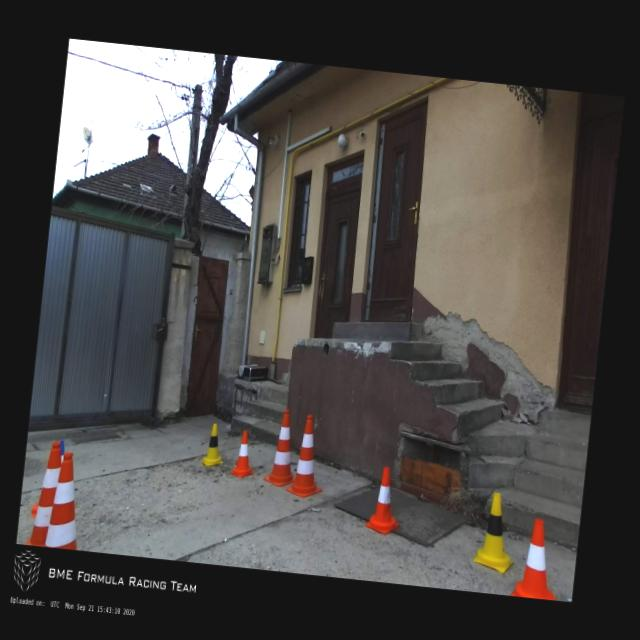large_orange_cone: (24, 439, 64, 547), (44, 450, 87, 550), (284, 413, 329, 499), (262, 408, 302, 488)
orange_cone: (509, 517, 564, 600), (364, 464, 404, 535), (229, 428, 257, 477)
yellow_cone: (472, 490, 518, 574), (200, 421, 227, 467)
